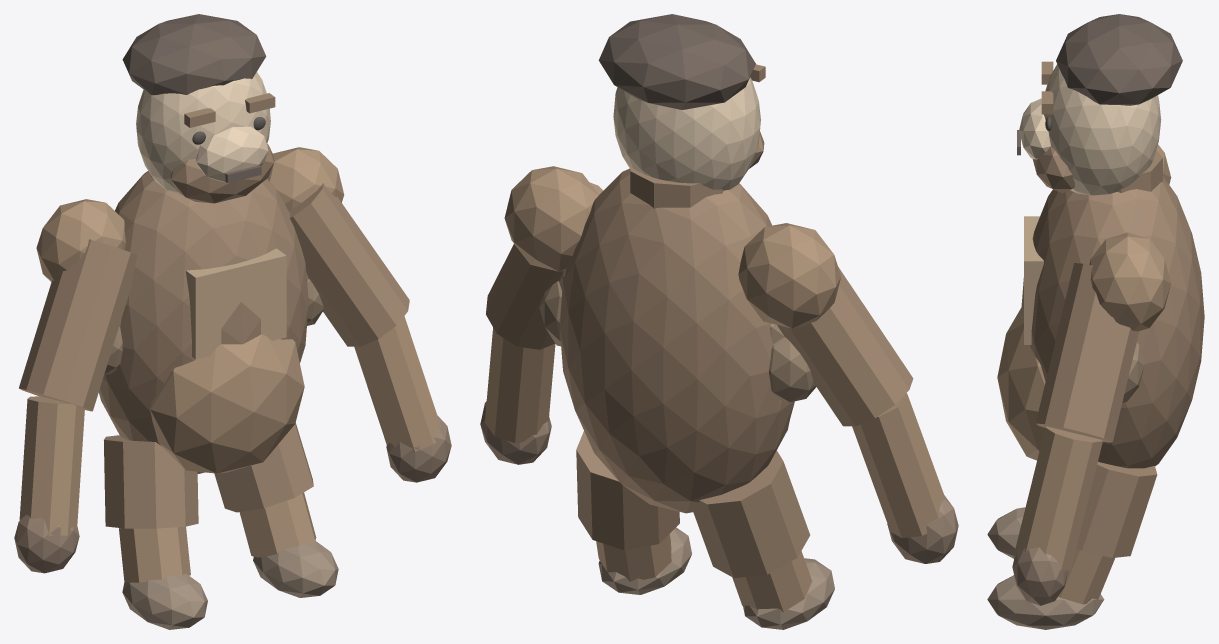
Rendered from zeke.glb.
The picture shows the model from 3 angles, left to right: view 1: azimuth 30°, elevation 25°; view 2: azimuth 150°, elevation 25°; view 3: azimuth 270°, elevation 25°; orthographic projection. The views are drawn at different scales.
Visible parts, largest first — view 1: torso_felpudo, barriga, braco_superior_esq, braco_superior_dir, cabelo_besta, coxa_esq, cabeca, antebraco_esq, peitoral_claro, antebraco_dir, coxa_dir, ombro_pelo_esq (+9 smaller); view 2: torso_felpudo, cabeca, cabelo_besta, braco_superior_esq, coxa_esq, ombro_pelo_esq, antebraco_esq, ombro_pelo_dir, coxa_dir, antebraco_dir, braco_superior_dir, perna_esq (+8 smaller); view 3: torso_felpudo, braco_superior_dir, cabeca, cabelo_besta, antebraco_dir, ombro_pelo_dir, coxa_dir, barriga, pe_dir, mao_dir, perna_dir, peitoral_claro (+5 smaller).
Part boxes in pixels (<box>): torso_felpudo: <box>99,171,308,473</box>; barriga: <box>150,334,304,473</box>; braco_superior_esq: <box>19,239,137,411</box>; braco_superior_dir: <box>288,183,409,346</box>; cabelo_besta: <box>122,14,266,95</box>; coxa_esq: <box>104,435,198,528</box>; cabeca: <box>136,72,270,195</box>; antebraco_esq: <box>19,396,84,535</box>; peitoral_claro: <box>186,248,286,359</box>; antebraco_dir: <box>354,316,441,451</box>; coxa_dir: <box>214,423,313,512</box>; ombro_pelo_esq: <box>36,199,125,281</box>; torso_felpudo: <box>560,168,794,513</box>; cabeca: <box>613,77,760,190</box>; cabelo_besta: <box>598,14,755,109</box>; braco_superior_esq: <box>777,266,913,426</box>; coxa_esq: <box>693,450,810,578</box>; ombro_pelo_esq: <box>738,223,840,328</box>; antebraco_esq: <box>852,393,945,537</box>; ombro_pelo_dir: <box>504,166,598,271</box>; coxa_dir: <box>576,431,679,550</box>; antebraco_dir: <box>484,327,555,443</box>; braco_superior_dir: <box>486,182,603,349</box>; perna_esq: <box>732,551,812,612</box>; torso_felpudo: <box>1020,176,1204,468</box>; braco_superior_dir: <box>1035,263,1139,442</box>; cabeca: <box>1043,64,1161,195</box>; cabelo_besta: <box>1056,14,1182,105</box>; antebraco_dir: <box>1013,426,1102,571</box>; ombro_pelo_dir: <box>1089,232,1171,331</box>; coxa_dir: <box>1076,461,1157,557</box>; barriga: <box>997,308,1045,460</box>; pe_dir: <box>987,575,1104,629</box>; mao_dir: <box>1012,547,1068,605</box>; perna_dir: <box>1058,549,1114,604</box>; peitoral_claro: <box>1024,216,1043,344</box>.
Size of the model in its own units: 3.04 by 3.74 by 1.3.
